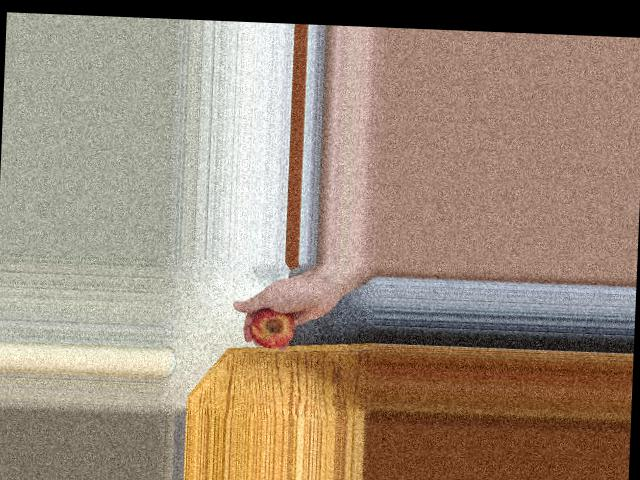apple: (247, 303, 302, 349)
